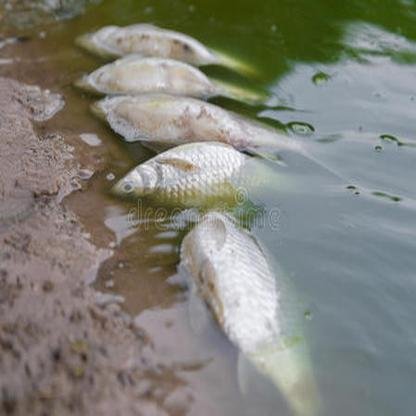deceased fish: (182, 208, 327, 416), (90, 92, 307, 158), (116, 140, 306, 204), (75, 22, 257, 79), (74, 54, 264, 107)
